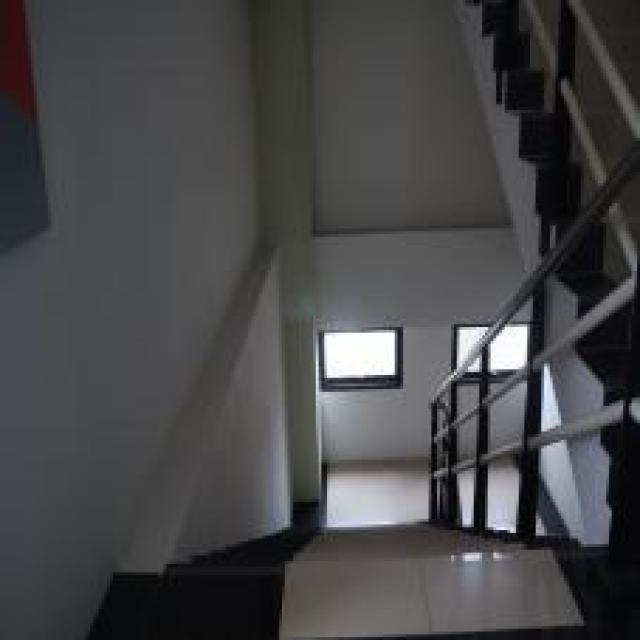downstair: (173, 526, 517, 622)
